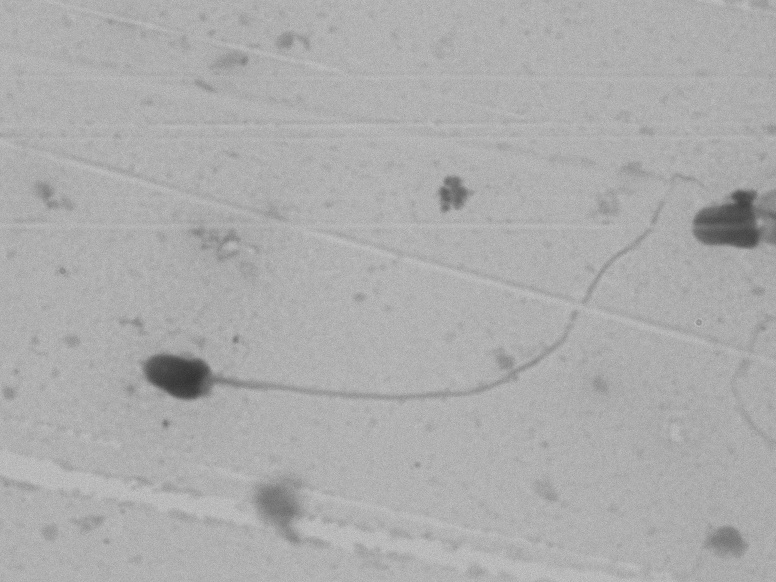Abnormal: (86, 181, 671, 445)
